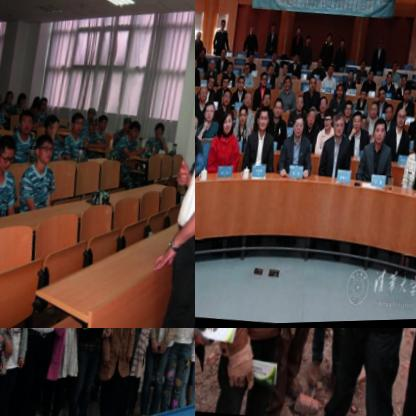head: (33, 131, 56, 165), (0, 135, 17, 171), (17, 108, 35, 136), (42, 114, 60, 140), (372, 118, 388, 146), (220, 108, 235, 136), (291, 114, 307, 140), (70, 112, 86, 137), (332, 111, 346, 138), (257, 107, 272, 132), (126, 120, 143, 142), (203, 98, 217, 121), (350, 111, 364, 134), (237, 103, 250, 126), (151, 120, 165, 141), (272, 95, 284, 118), (306, 108, 319, 129), (322, 109, 334, 131), (121, 115, 134, 135), (96, 114, 109, 132), (87, 116, 99, 135), (196, 83, 208, 102), (294, 93, 306, 112), (395, 109, 407, 127), (3, 87, 15, 104), (29, 100, 41, 117), (242, 90, 253, 108), (85, 106, 97, 122), (38, 96, 48, 115), (369, 101, 380, 118), (401, 86, 412, 103), (222, 88, 232, 106), (16, 91, 27, 107), (344, 100, 354, 117), (205, 76, 216, 91), (307, 76, 318, 91), (319, 96, 328, 114), (358, 86, 368, 102), (383, 72, 394, 86), (377, 86, 386, 103), (236, 76, 246, 91), (262, 93, 272, 108), (384, 106, 394, 121), (335, 82, 344, 98), (283, 76, 292, 91), (221, 75, 230, 89), (195, 111, 199, 141), (281, 60, 289, 75), (267, 63, 275, 77), (260, 72, 268, 86), (367, 67, 375, 81), (412, 126, 416, 154), (207, 58, 215, 71), (325, 32, 333, 45), (391, 62, 401, 72), (226, 62, 234, 74), (326, 64, 334, 76), (347, 68, 355, 80), (400, 76, 408, 88), (219, 46, 226, 58), (244, 63, 251, 75), (247, 53, 254, 65), (271, 49, 278, 61), (378, 37, 385, 49), (199, 48, 207, 58), (219, 18, 227, 28), (195, 29, 201, 41), (317, 57, 323, 69), (360, 59, 366, 71), (293, 52, 300, 62), (295, 25, 302, 35), (249, 25, 255, 36), (305, 35, 311, 46), (270, 22, 276, 32), (340, 39, 346, 49), (195, 55, 197, 70)
